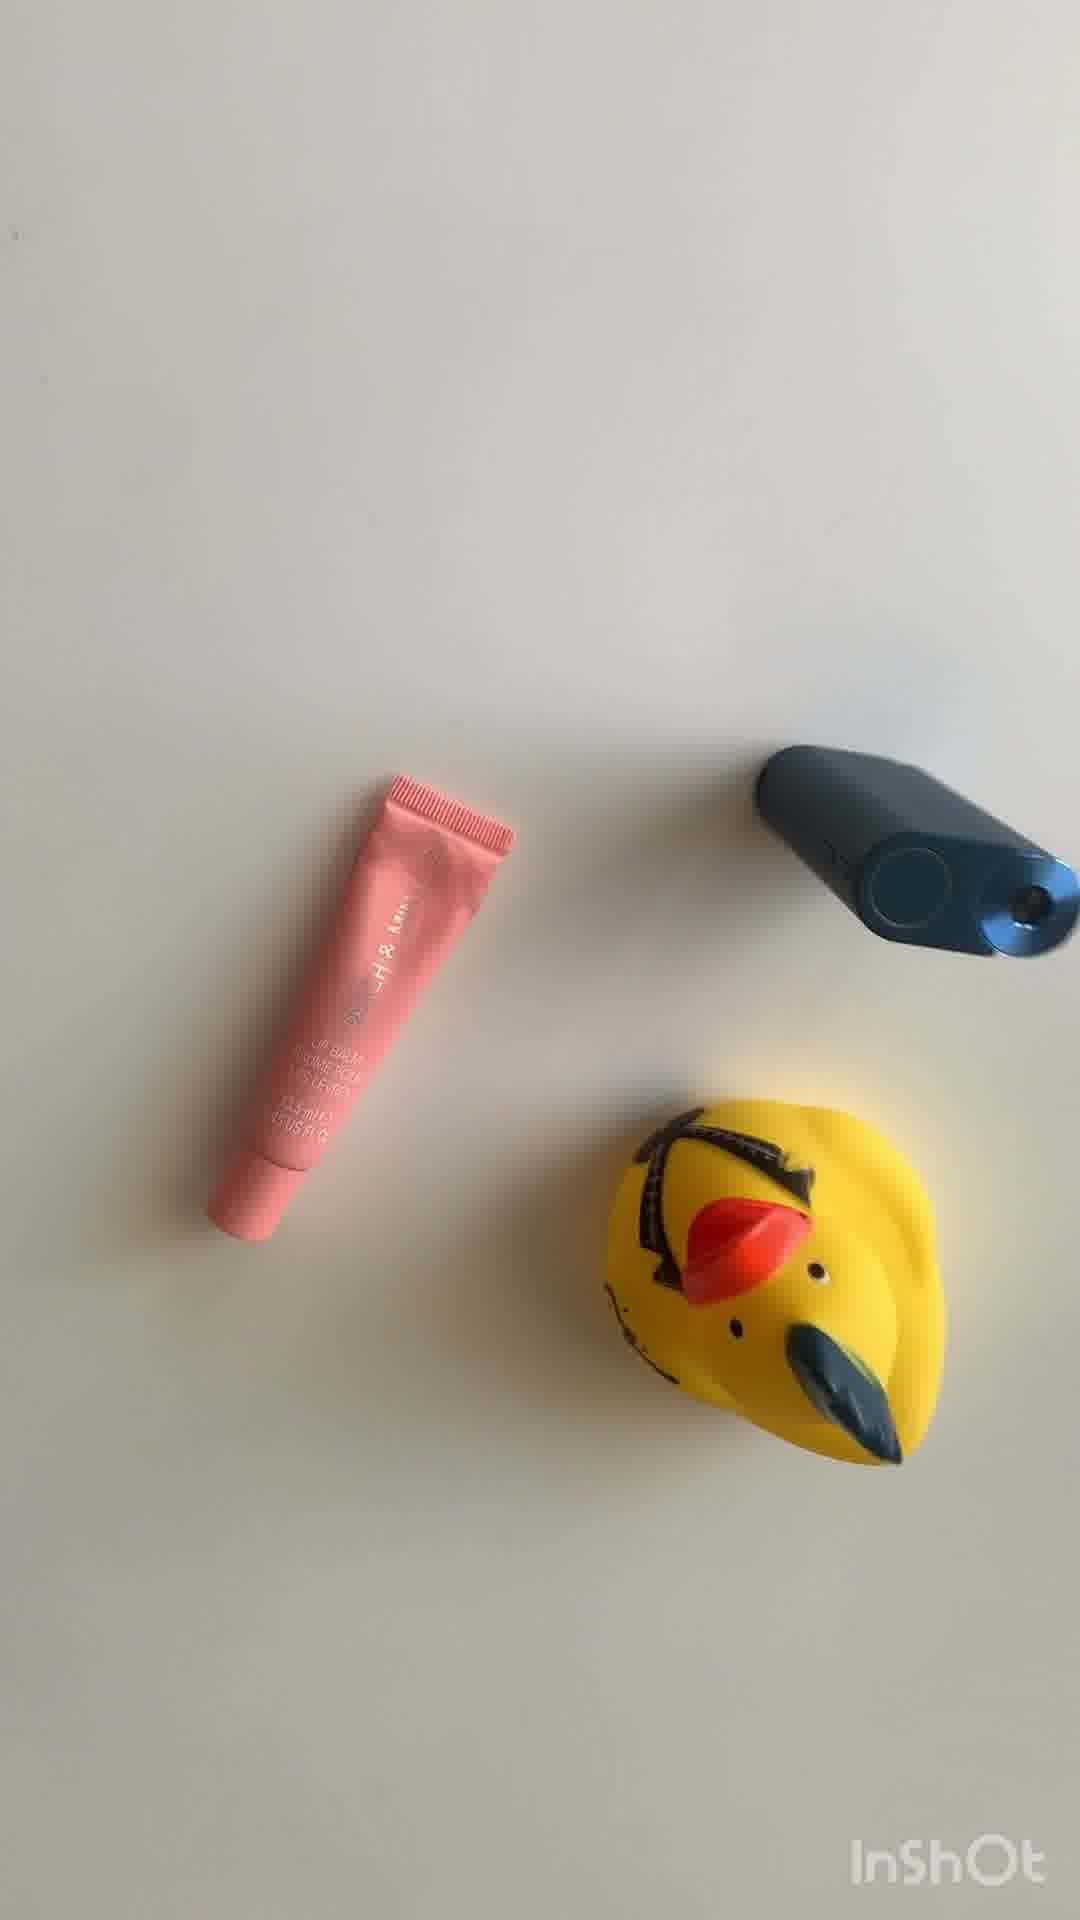duck: (600, 1093, 949, 1469)
glo: (741, 736, 1077, 959)
lip balm: (208, 767, 521, 1249)
